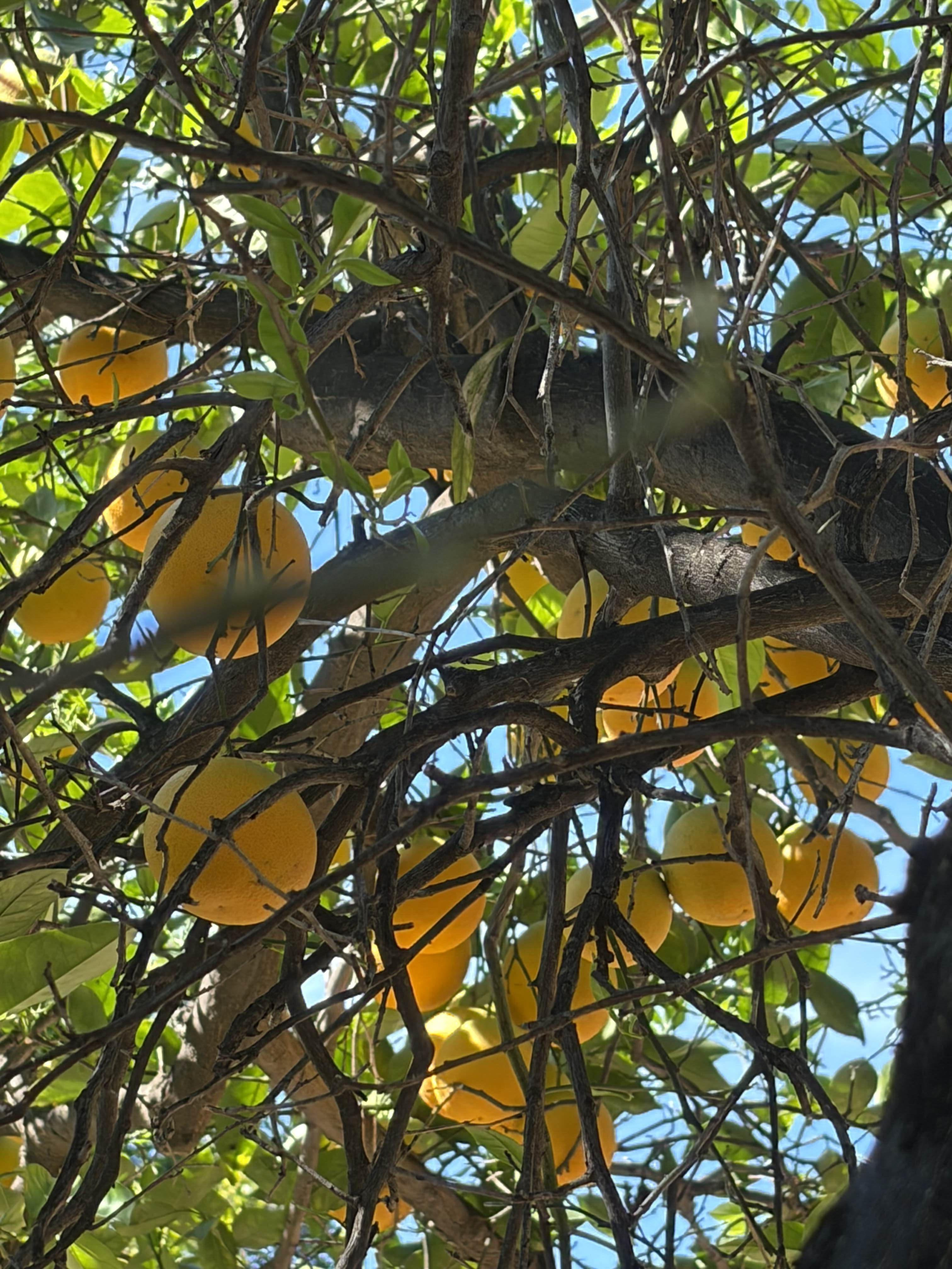orange: (143, 756, 317, 927), (141, 484, 310, 660), (557, 569, 689, 707), (501, 919, 618, 1049), (101, 429, 223, 553), (662, 802, 783, 926), (562, 856, 672, 969), (602, 662, 718, 768), (772, 820, 880, 932), (317, 1120, 423, 1234), (8, 532, 110, 645), (393, 836, 487, 956), (434, 1018, 535, 1125), (507, 678, 605, 784), (57, 323, 167, 417), (364, 918, 472, 1012), (413, 1006, 500, 1111), (0, 49, 80, 155), (873, 309, 952, 416), (486, 1057, 573, 1145), (792, 734, 891, 810), (543, 1089, 617, 1187), (190, 114, 263, 186), (757, 635, 841, 697), (870, 690, 952, 741), (522, 273, 589, 335), (487, 550, 554, 611), (741, 522, 817, 573), (6, 744, 77, 793), (368, 468, 453, 490), (0, 320, 16, 419), (1, 1137, 24, 1188), (330, 829, 354, 867)
